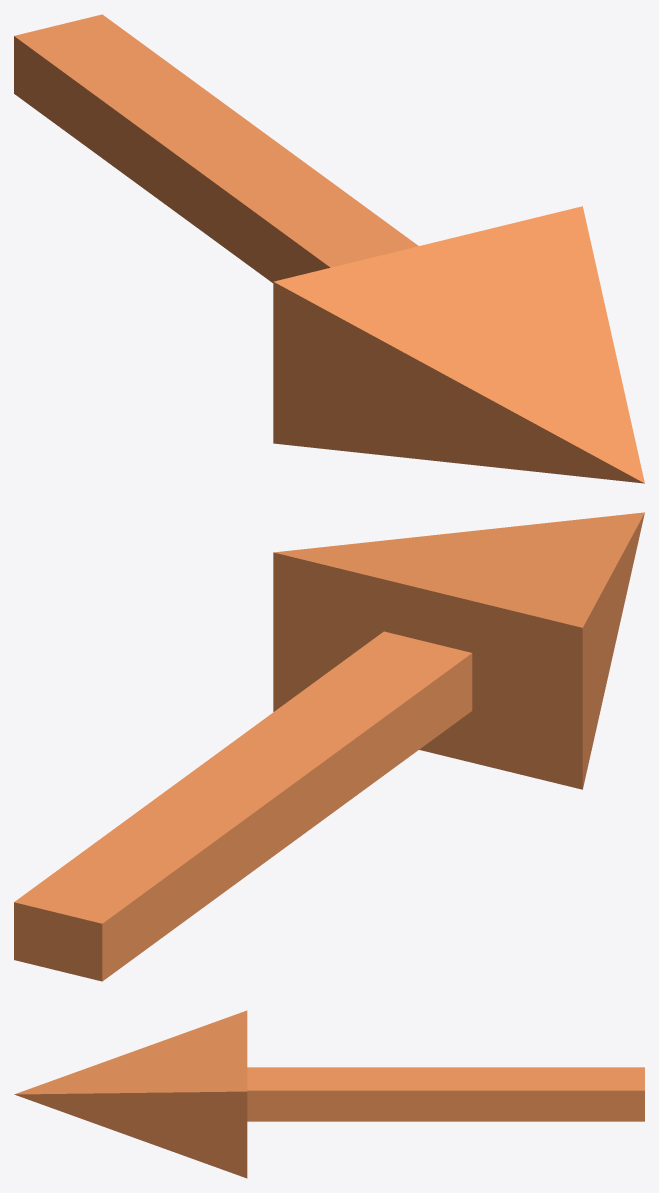
The model's file is arrow.glb.
3 views of the same model, one above another, from view 1: azimuth 30°, elevation 25°; view 2: azimuth 150°, elevation 25°; view 3: azimuth 270°, elevation 25° (orthographic). The views are drawn at different scales.
Parts seen in each view (by area): view 1: Arrow; view 2: Arrow; view 3: Arrow.
Boxes of the visible parts, x1,y1,x2,y2 form: Arrow: [14, 14, 644, 483]; Arrow: [14, 512, 644, 981]; Arrow: [14, 1010, 644, 1178].
Size of the model in its own units: 0.28 by 0.14 by 0.92.
